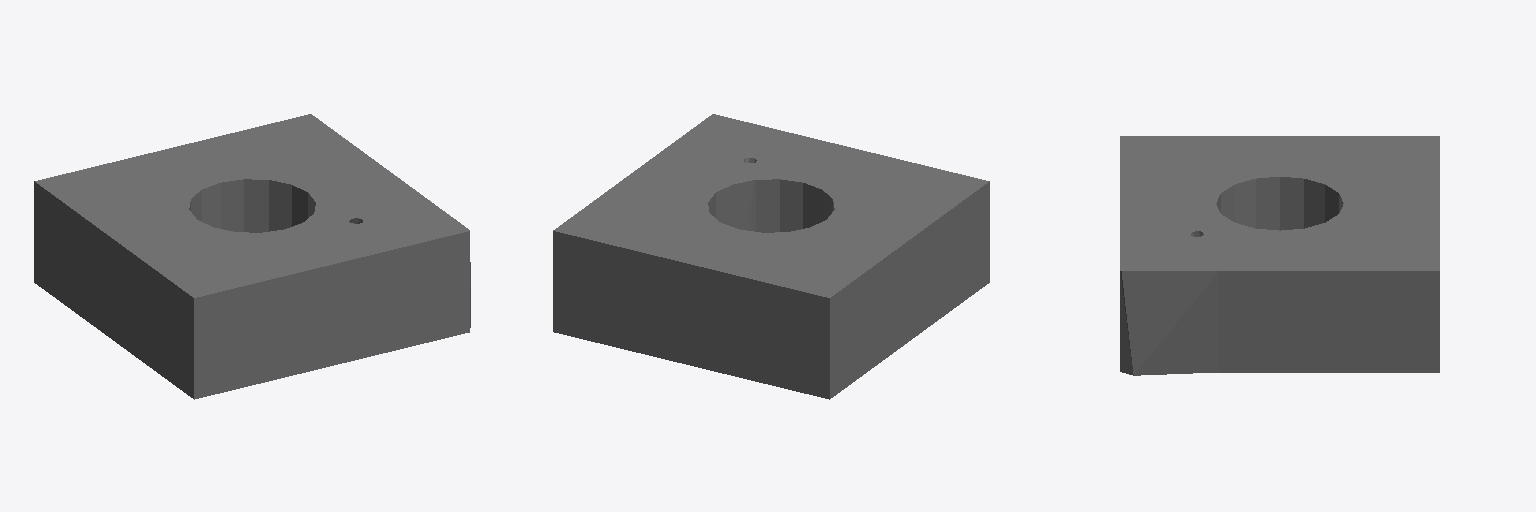
Rendered from Pipe.obj.
The picture shows the model from 3 angles: view 1: azimuth 30°, elevation 25°; view 2: azimuth 150°, elevation 25°; view 3: azimuth 270°, elevation 25°; orthographic projection.
Parts seen in each view (by area): view 1: Pipe1:Pipe; view 2: Pipe1:Pipe; view 3: Pipe1:Pipe.
Part boxes in pixels (x1,y1,x2,y2): Pipe1:Pipe: (34,114,470,399); Pipe1:Pipe: (553,114,989,399); Pipe1:Pipe: (1120,136,1439,375).
Size of the model in its own units: 51.22 by 17.52 by 50.